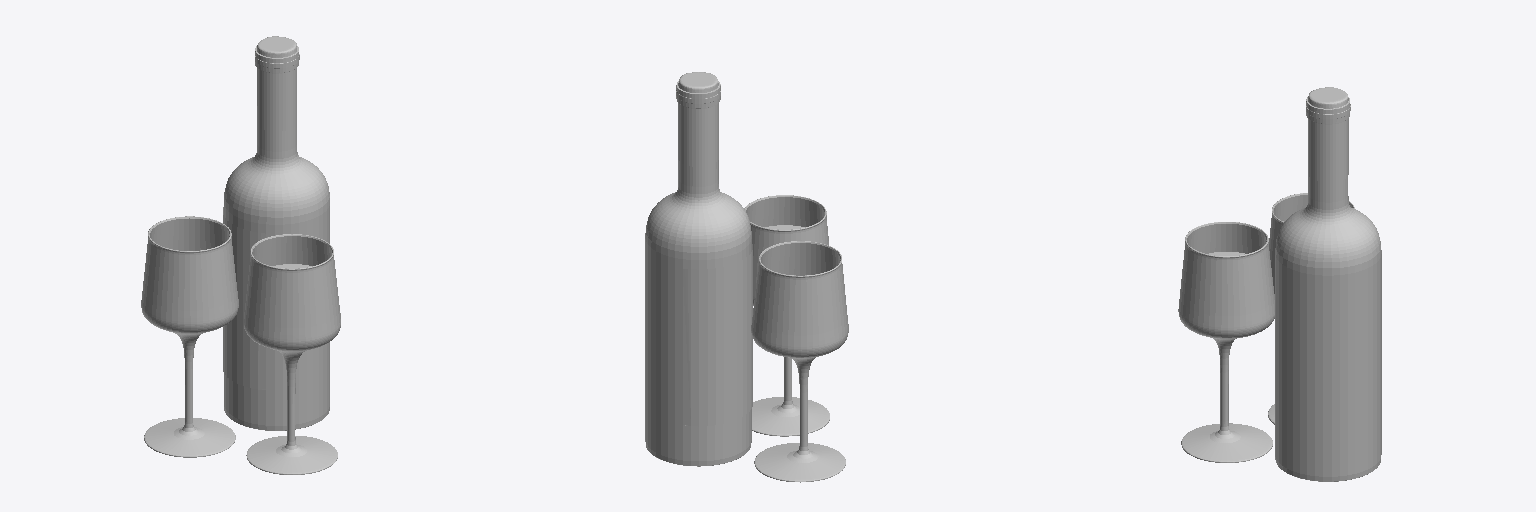
Rendered from modelo.obj.
3 views of the same model, side by side, from view 1: azimuth 30°, elevation 25°; view 2: azimuth 150°, elevation 25°; view 3: azimuth 270°, elevation 25° (orthographic).
Visible parts, largest first — view 1: Wine_Bottle__Wine_Bottle_obj, Wine_glass_(Empty)_Circle.003, Wine_glass_(Full)_Circle.001; view 2: Wine_Bottle__Wine_Bottle_obj, Wine_glass_(Empty)_Circle.003, Wine_glass_(Full)_Circle.001; view 3: Wine_Bottle__Wine_Bottle_obj, Wine_glass_(Full)_Circle.001, Wine_glass_(Empty)_Circle.003.
Part boxes in pixels (bbox=[...]): Wine_Bottle__Wine_Bottle_obj: bbox=[223, 36, 329, 430]; Wine_glass_(Empty)_Circle.003: bbox=[141, 216, 238, 457]; Wine_glass_(Full)_Circle.001: bbox=[244, 234, 340, 474]; Wine_Bottle__Wine_Bottle_obj: bbox=[645, 72, 752, 466]; Wine_glass_(Empty)_Circle.003: bbox=[751, 241, 848, 482]; Wine_glass_(Full)_Circle.001: bbox=[744, 195, 829, 436]; Wine_Bottle__Wine_Bottle_obj: bbox=[1275, 87, 1381, 481]; Wine_glass_(Full)_Circle.001: bbox=[1178, 222, 1274, 462]; Wine_glass_(Empty)_Circle.003: bbox=[1268, 193, 1354, 424].
Size of the model in its own units: 0.2061 by 0.3951 by 0.1985.